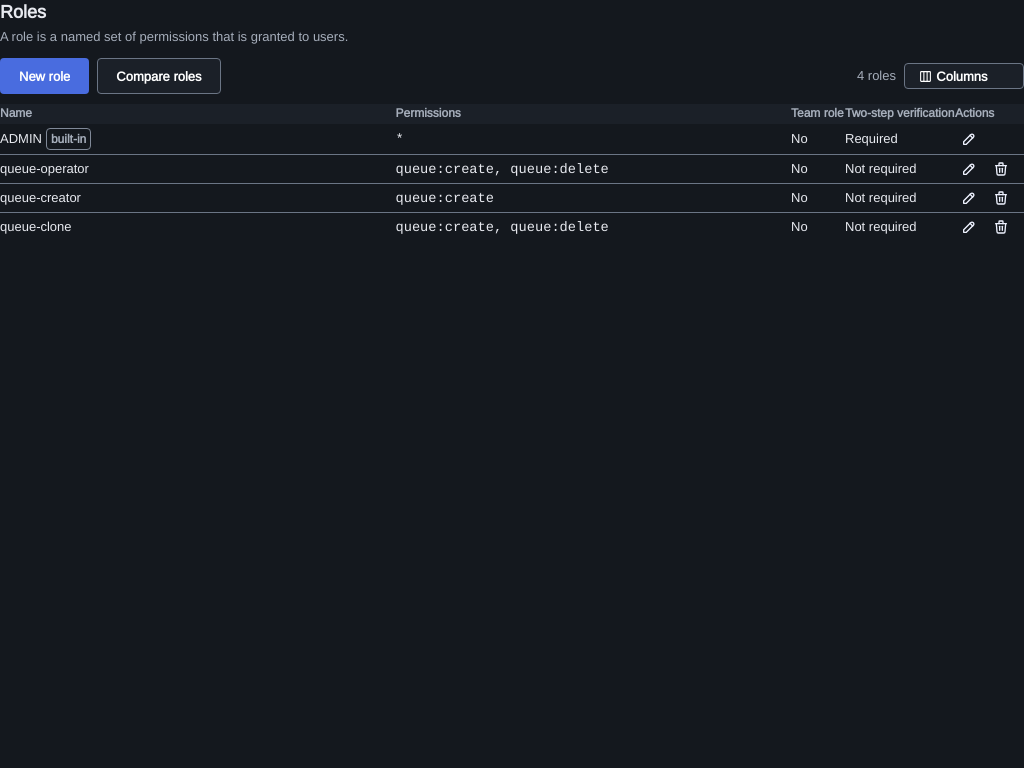
it: RolesPanel list › deletes a custom role only once its name is typed, and announces it
Click the button named "Delete queue-creator" at (1001, 198), box [987,184,1015,212]
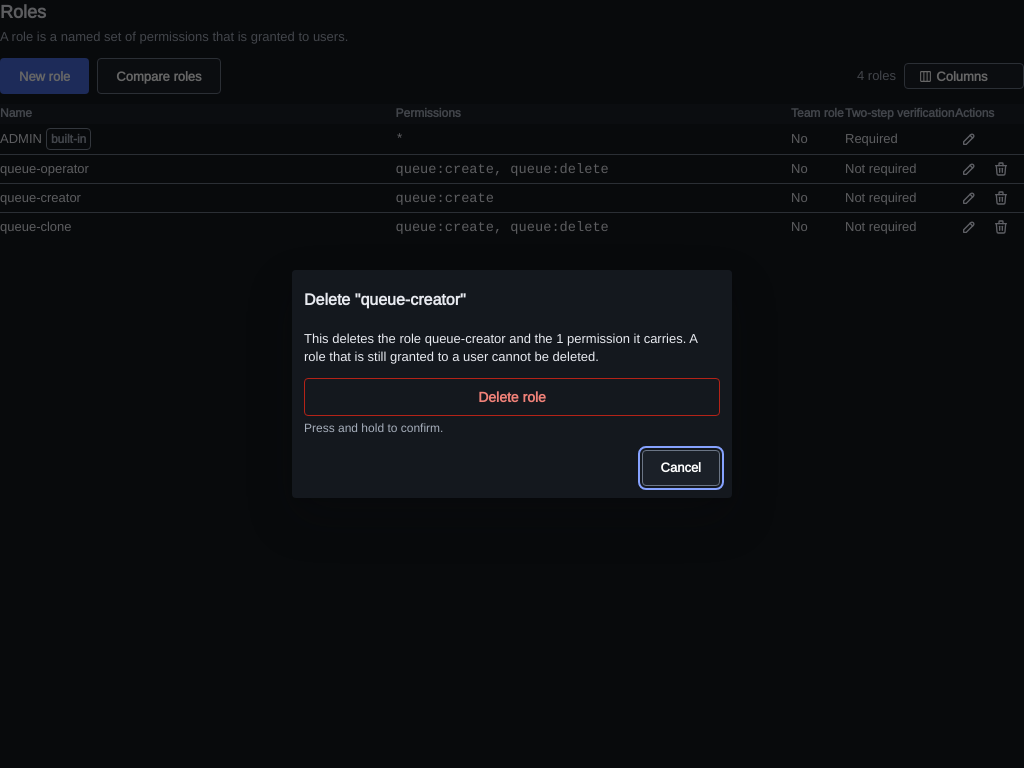
Expected: the dialog "Delete \"queue-creator\"" shows "1 permission", [304,330,697,365]
Press the mouse on the button "Delete role Delete role" at (512, 398), box [304,378,720,416]
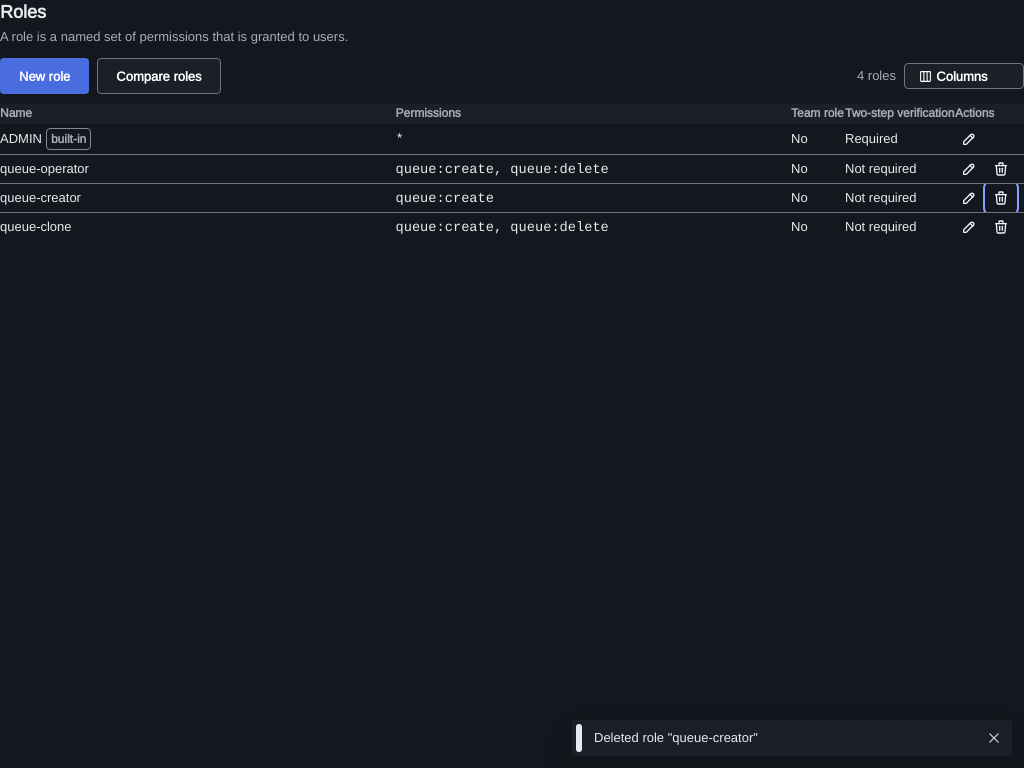
Expected: the message reads "Deleted role \"queue-creator\"", [594,729,758,746]
Expected: the dialog is gone
